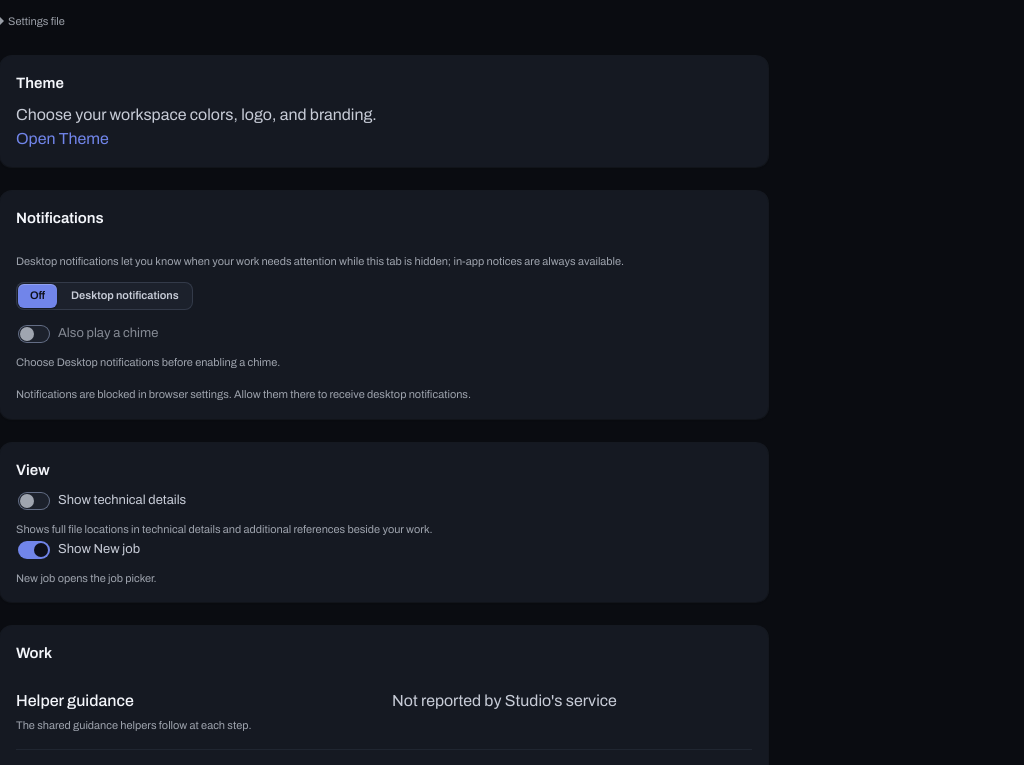
Test: SystemSettings — Show technical details (S3) › a daemon that drops the key says so instead of looking saved
This screenshot has width=1024, height=765.
Click the switch with test id "tech-details-toggle".
click(102, 501)  # box [16,489,188,513]
Wait 400 ms
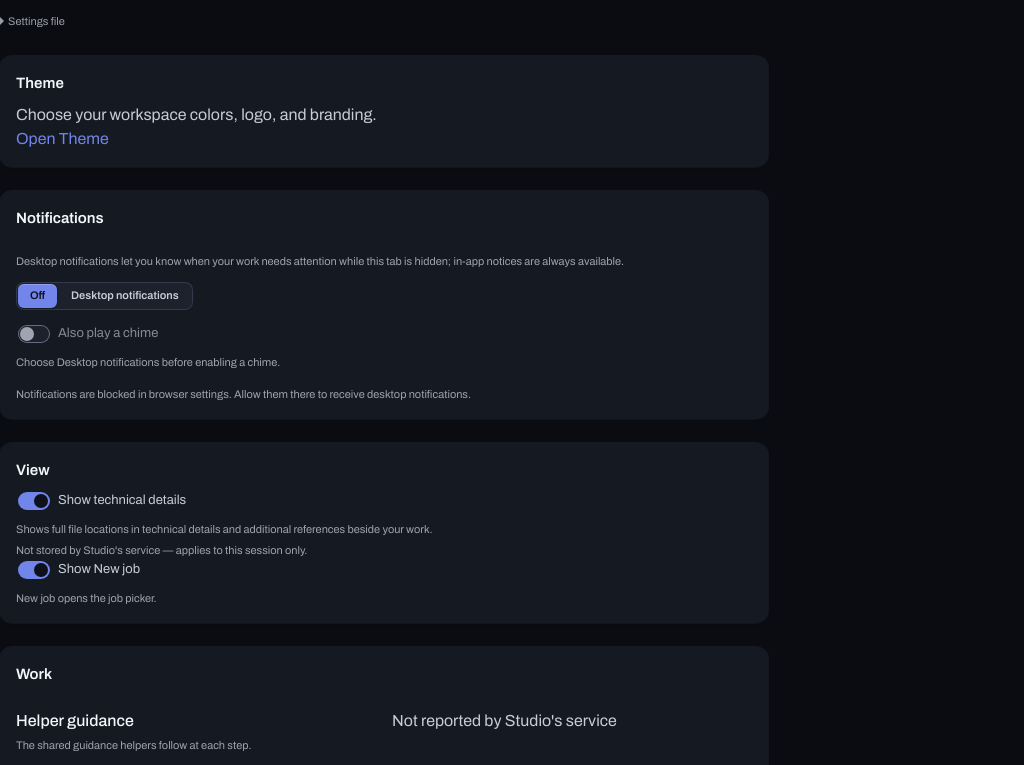
Now the text with test id "tech-details-unsaved" shows "Not stored by Studio's service", box [16,544,307,556]
